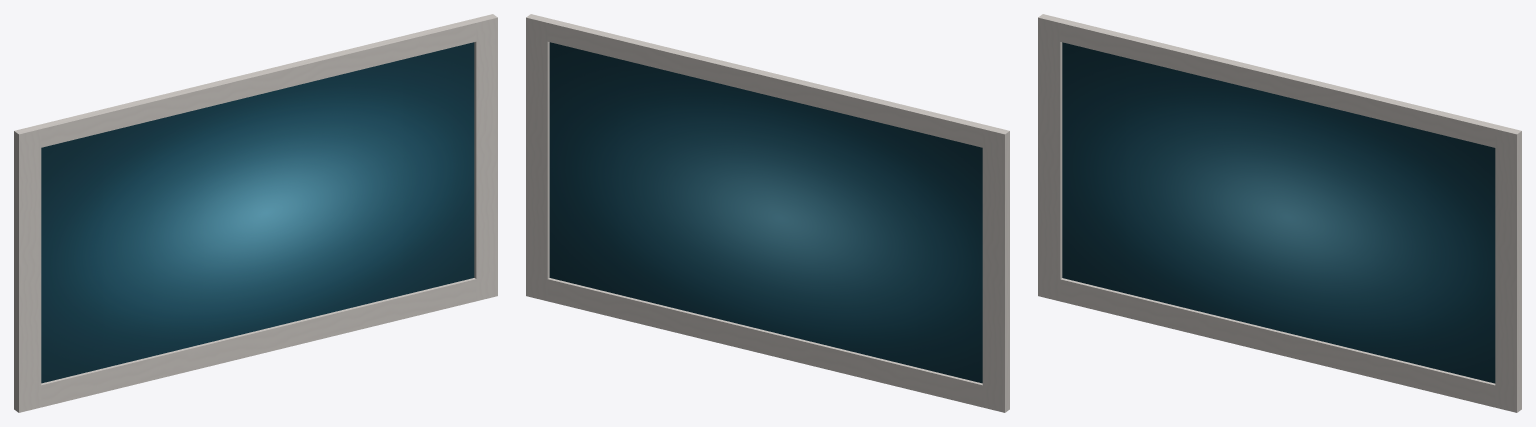
The model's file is Window_Large_B.FBX.
The picture shows the model from 3 angles, left to right: view 1: azimuth 30°, elevation 25°; view 2: azimuth 150°, elevation 25°; view 3: azimuth 330°, elevation 25°; orthographic projection.
Parts seen in each view (by area): view 1: Window_Large; view 2: Window_Large; view 3: Window_Large.
Boxes of the visible parts, x1,y1,x2,y2 form: Window_Large: (14,14,497,412); Window_Large: (526,14,1009,412); Window_Large: (1038,14,1521,412).
Size of the model in its own units: 450 by 250 by 8.
